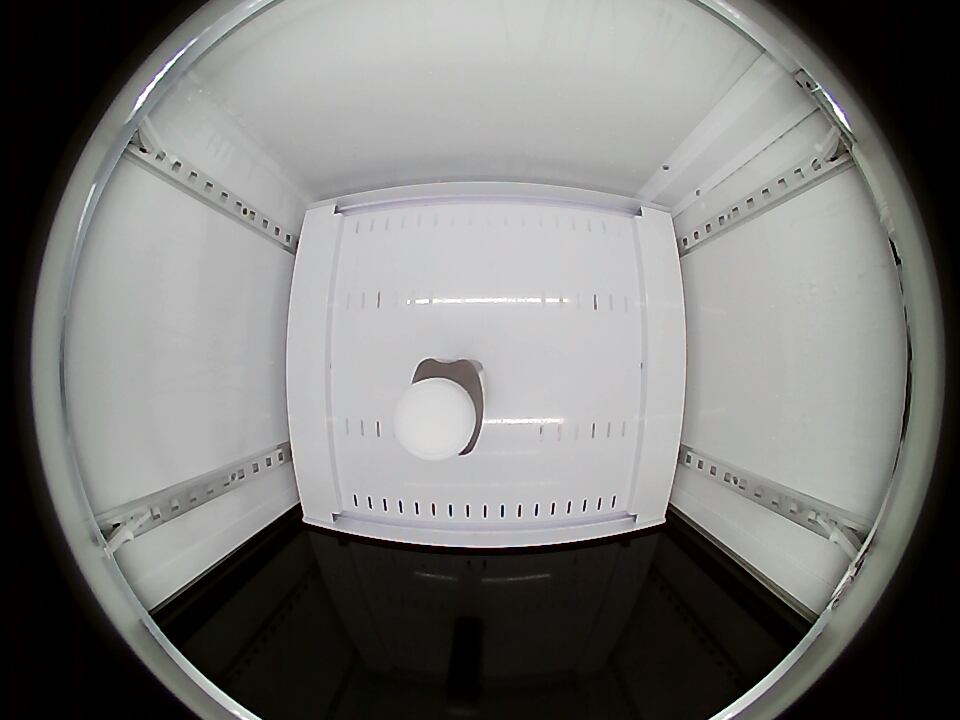youyanggudong: (393, 358, 487, 461)
